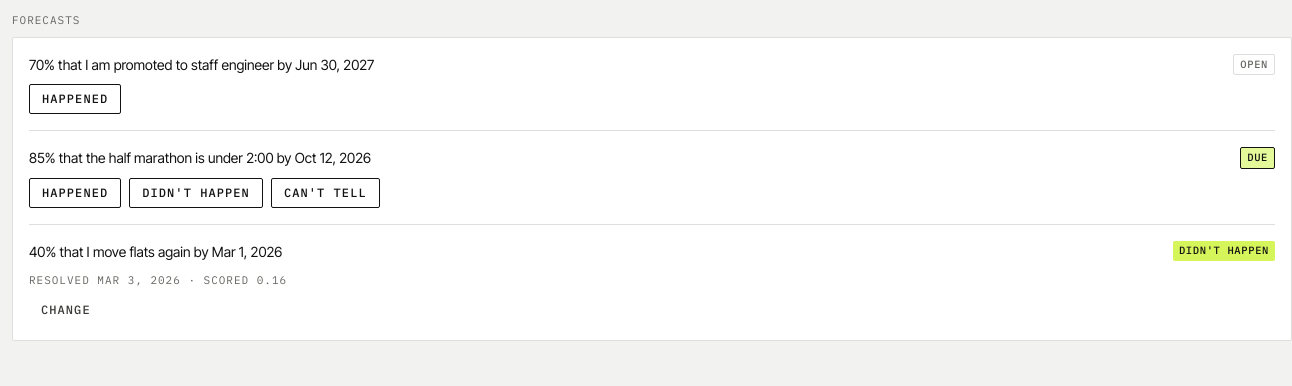
ForecastList › puts the forecast back when saving fails
This screenshot has width=1292, height=386.
Click the button "Didn't happen" at (196, 193), box [129,178,263,208]
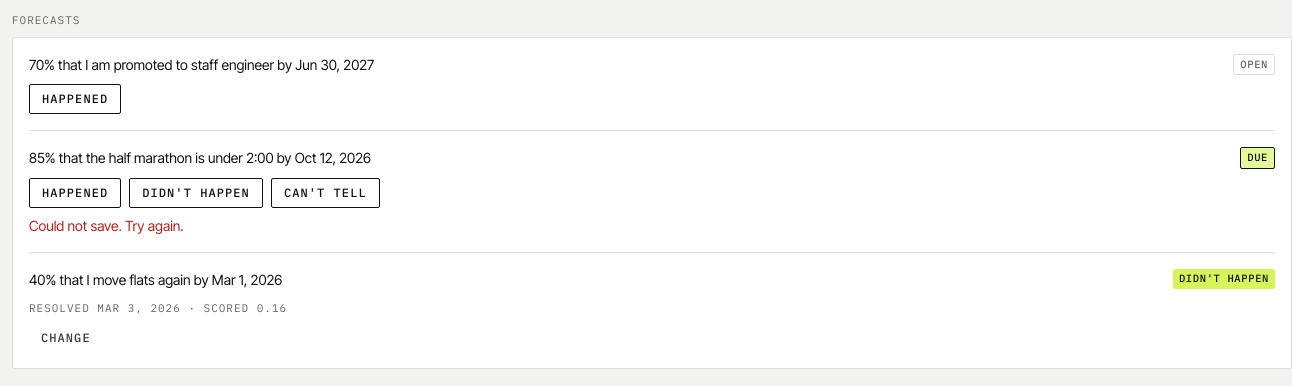
Expected: the text "Due" is shown, [1240,147,1275,169]
Now the text "Could not save. Try again." is shown, box [29,217,184,234]
